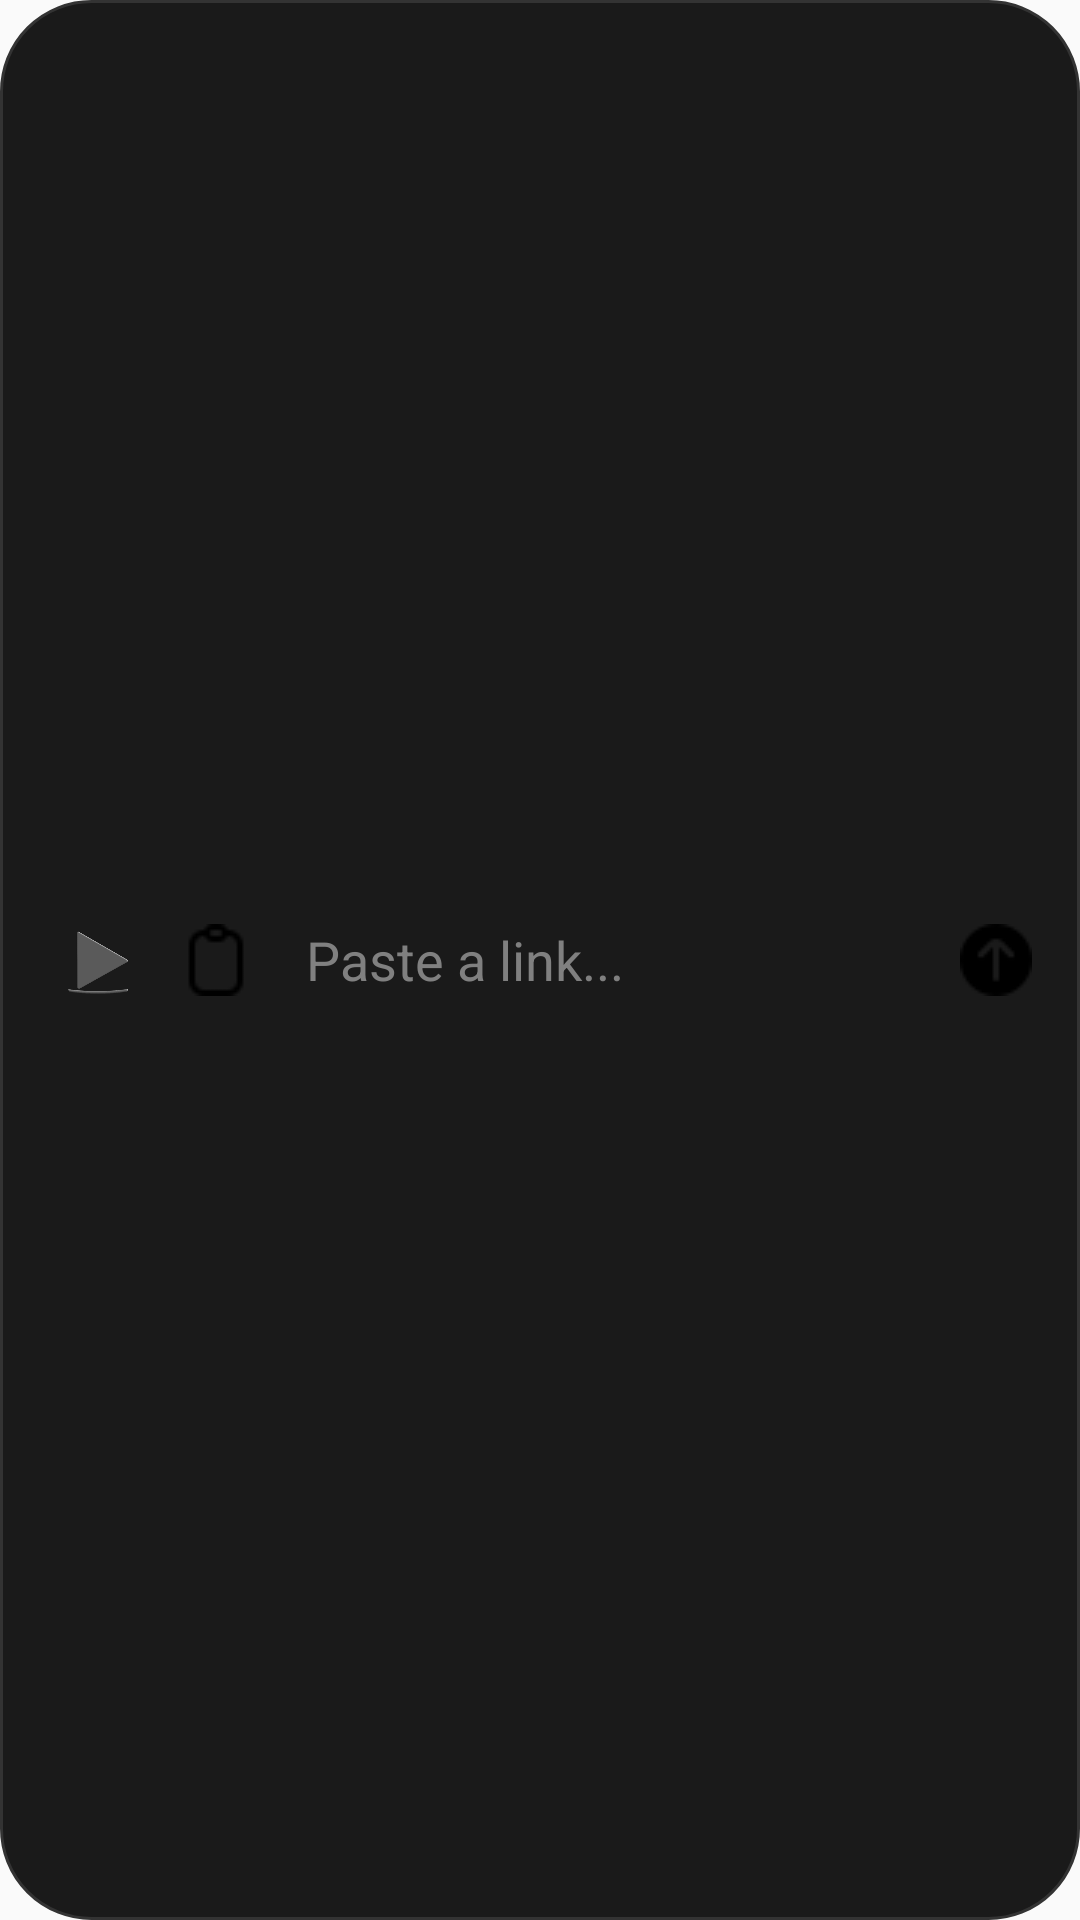

Point at icon controls on the screen. Image size 1080 x 1920, points as (x=x, y=y).
Send Link: (x=996, y=960)
